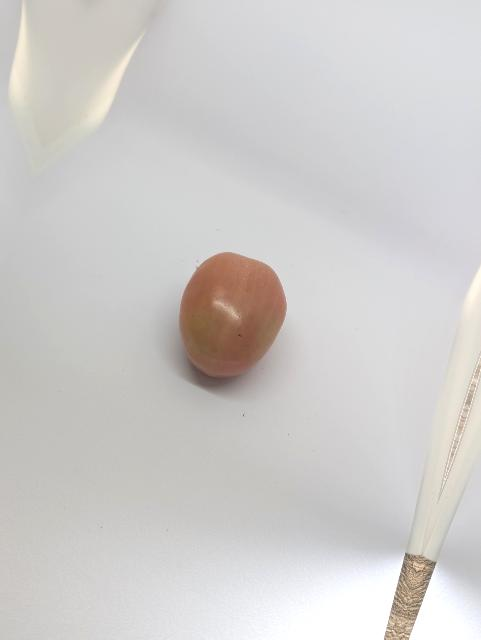turning: (166, 246, 297, 387)
